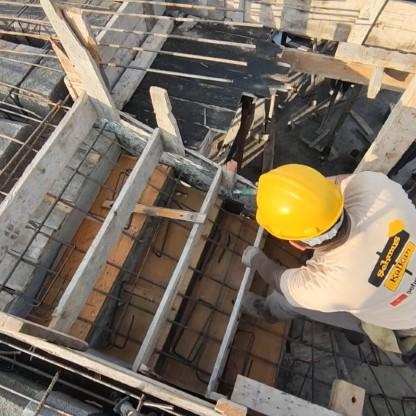helmet: (231, 150, 360, 257)
